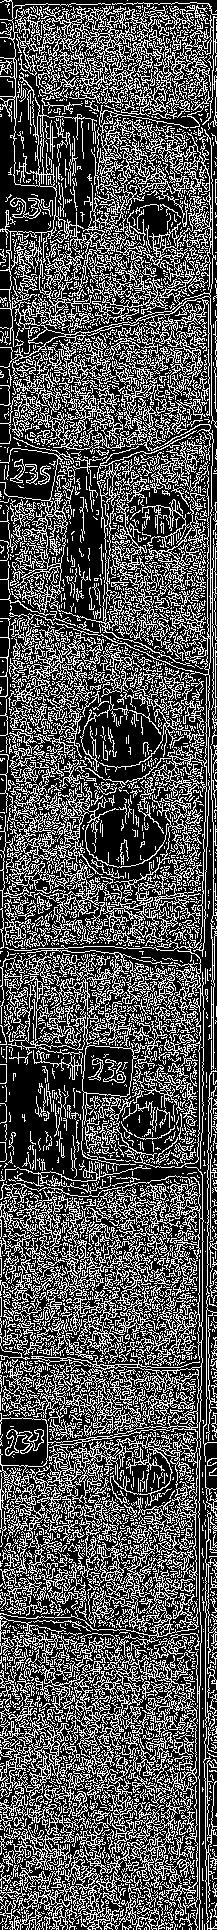hplug: (113, 176, 201, 258), (104, 1438, 187, 1516), (120, 476, 199, 558), (113, 1082, 189, 1158)
scal: (75, 782, 179, 887), (75, 686, 171, 782)
vplug: (21, 974, 92, 1200), (41, 442, 117, 646), (21, 1431, 92, 1638), (39, 94, 104, 300)
